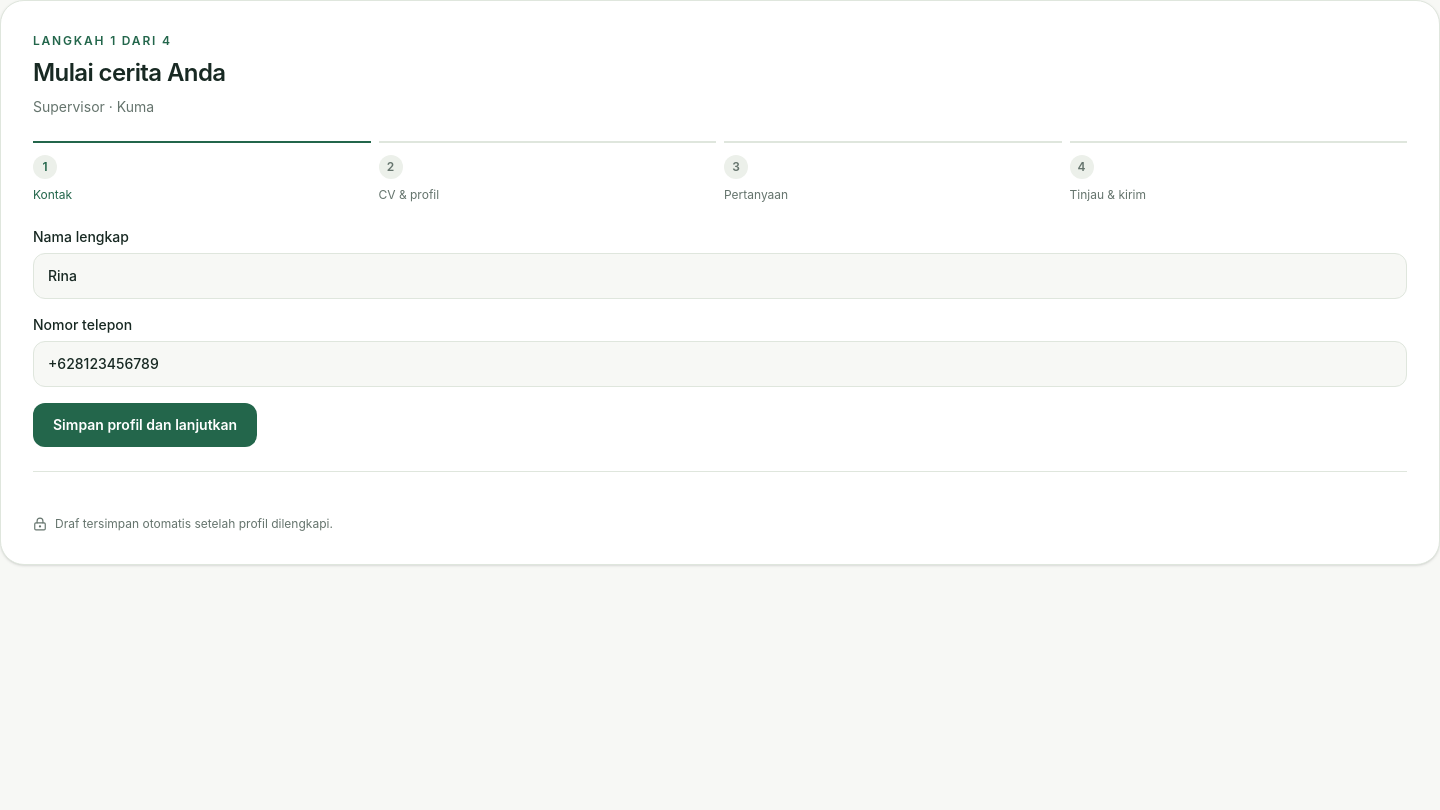
Scenario: pending saved files refresh automatically and rejected files can be replaced
The image size is (1440, 810).
Later steps or results of the test are not shown.
What coordinates should you click on to do the following:
click the button "Simpan profil dan lanjutkan"
I would click on:
 (145, 425)
Its box is left=33, top=403, right=257, bottom=447.
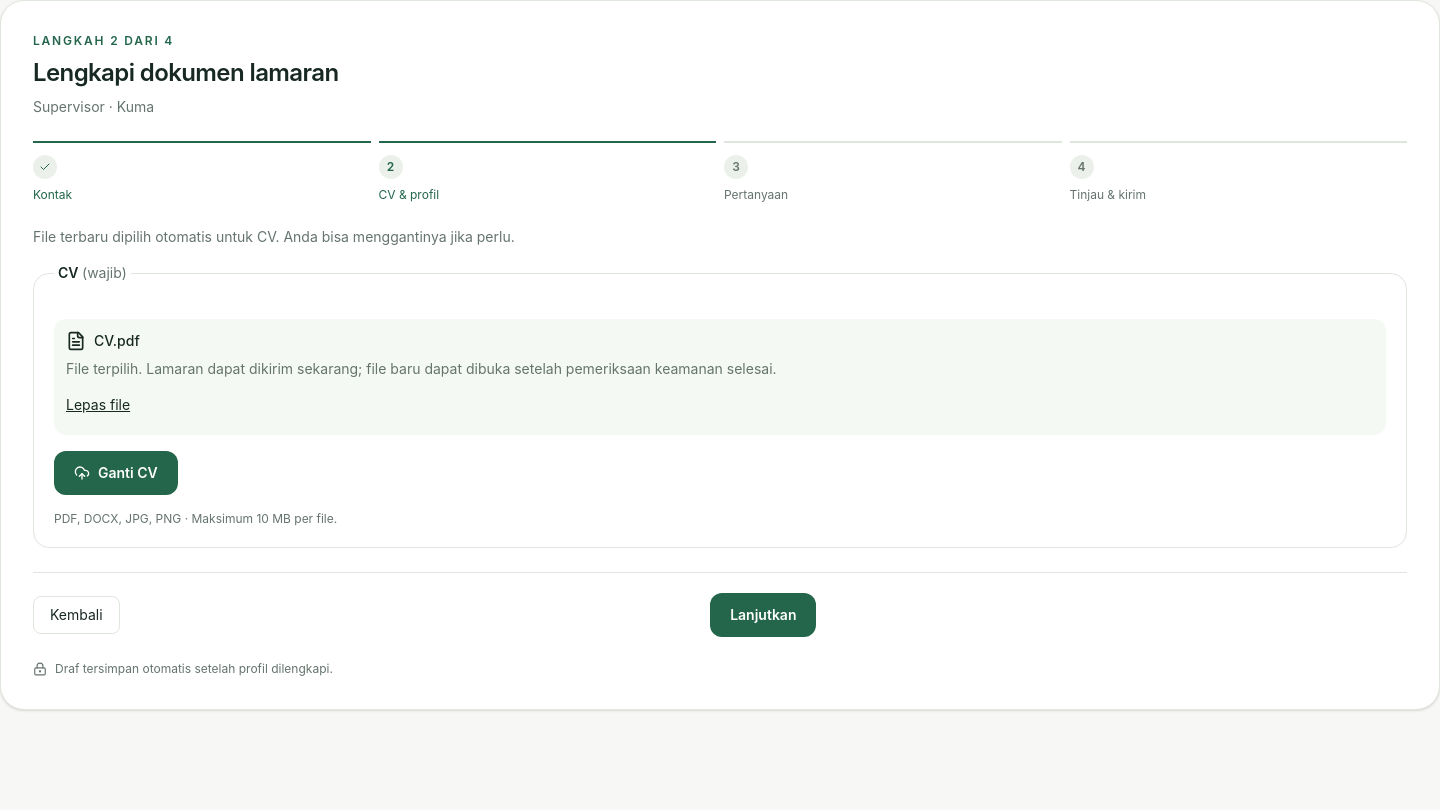
Now the heading "Lengkapi dokumen lamaran" is shown, box left=33, top=58, right=338, bottom=87
Now the file field labelled "Ganti CV" is shown, box left=54, top=451, right=178, bottom=495
Now the text "CV.pdf" is shown, box left=94, top=331, right=140, bottom=351
